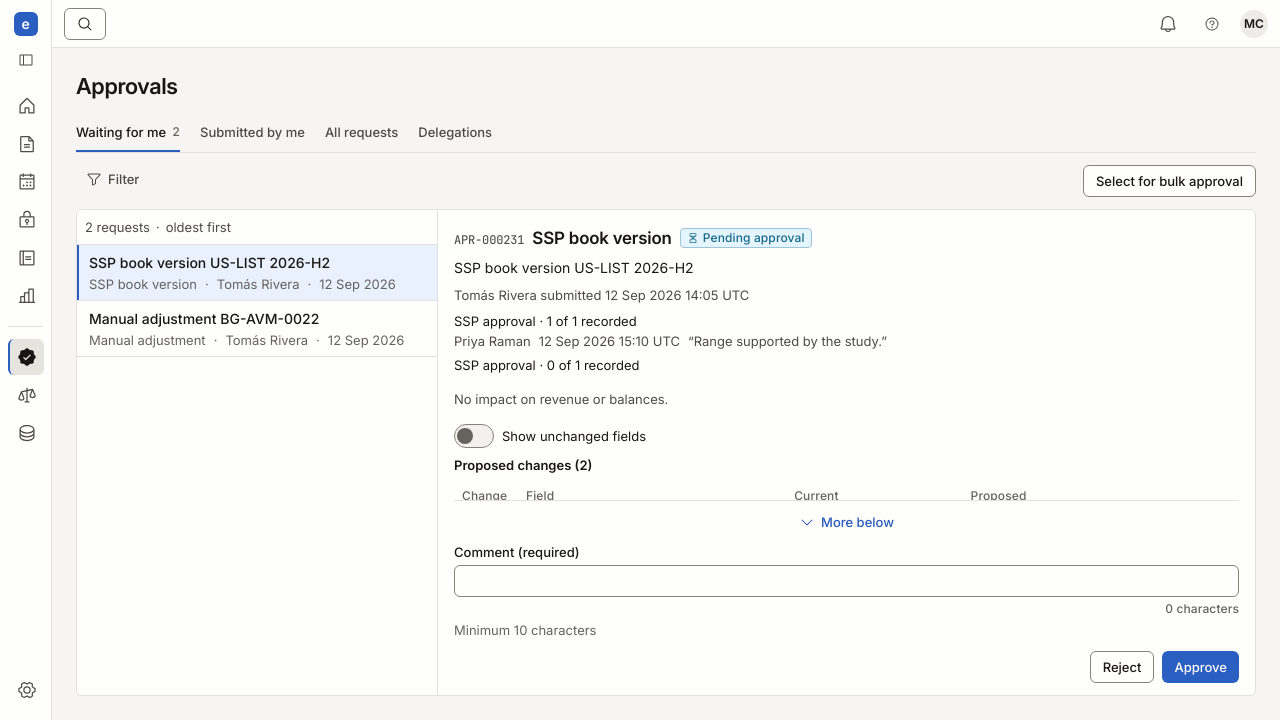
SF-12:request and REQ-UX-012 › Approve sends subject_content_sha256 and impact_preview_sha256, shows the toast Approved: <summary>. and moves focus to the next request
Expected: the element with test id "SF-12-diff" is shown, x1=454 y1=424 x2=1239 y2=573
In the text box labelled "Comment (required)": (846, 581) x1=454 y1=565 x2=1239 y2=597, type "Supported by H1 standalone sales."
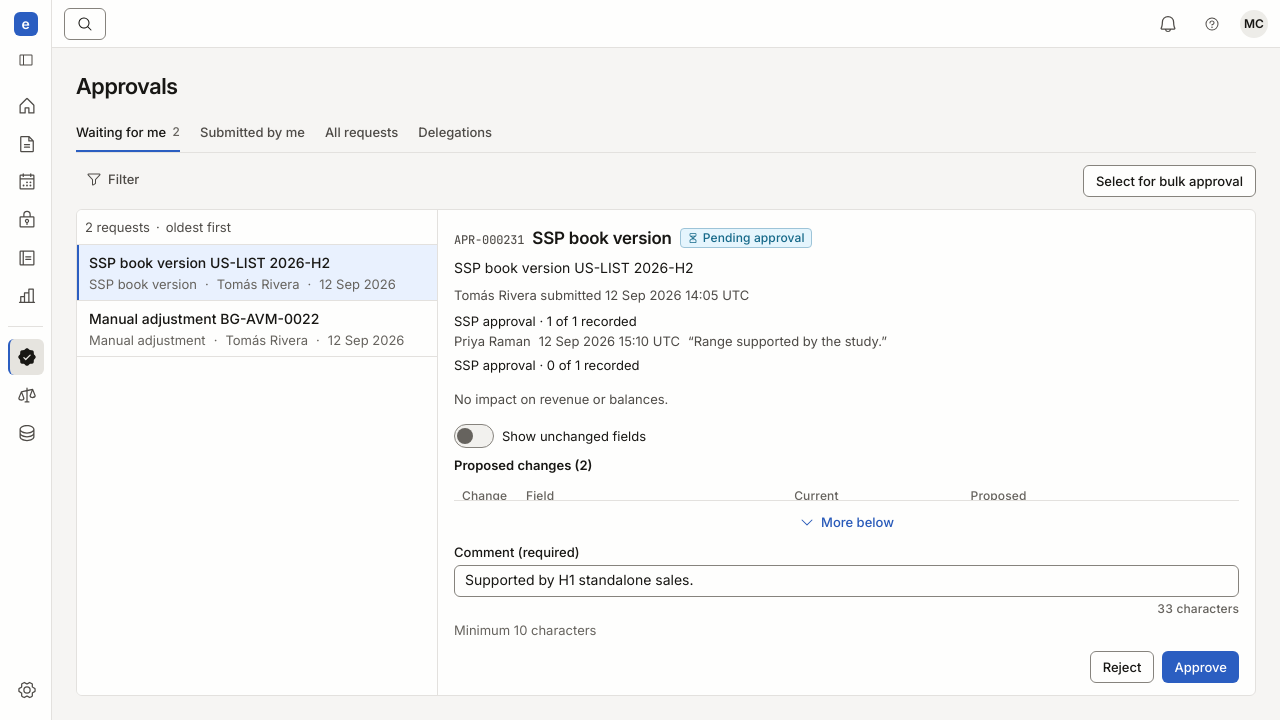
Click the button "Approve": (1201, 667) x1=1162 y1=651 x2=1239 y2=683
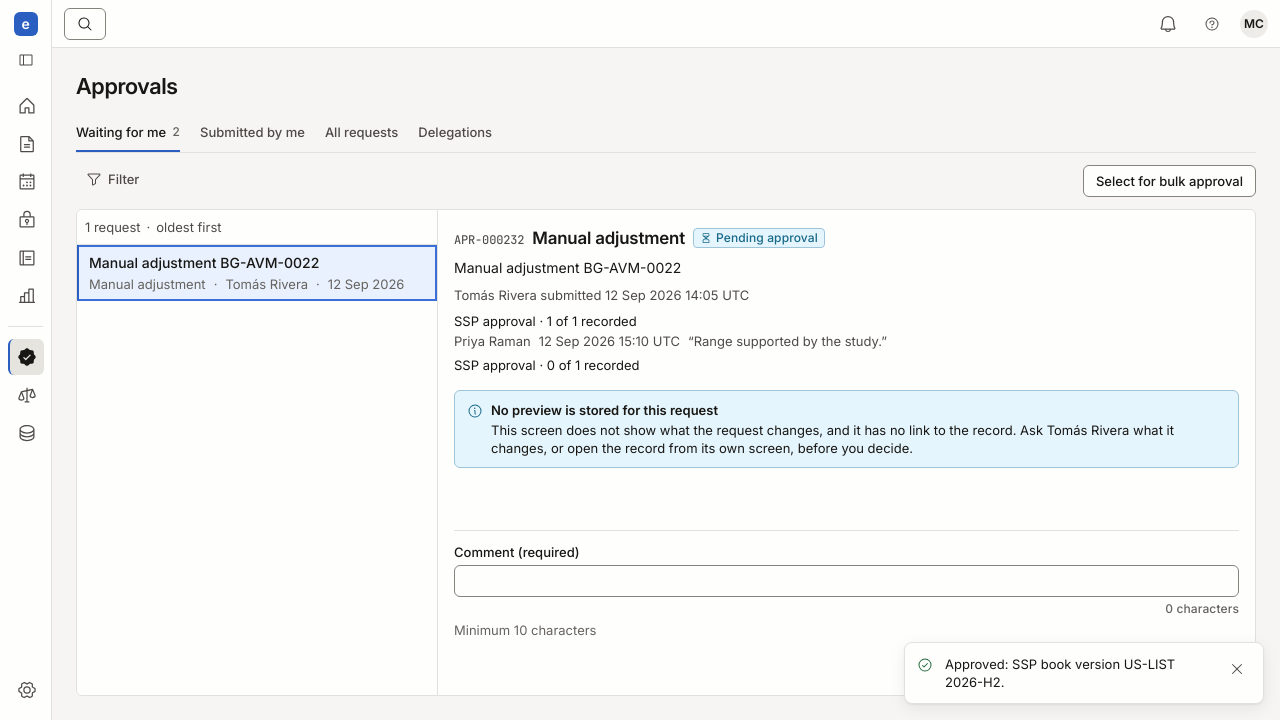
Expected: the option shows "Manual adjustment BG-AVM-0022", x1=77 y1=245 x2=437 y2=301
Expected: the text "Approved: SSP book version US-LIST 2026-H2." is shown, x1=945 y1=655 x2=1211 y2=691
